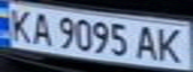0: (72, 16, 93, 53)
5: (109, 20, 133, 58)
9: (51, 13, 78, 51), (90, 18, 112, 55)
A: (27, 10, 57, 46), (133, 24, 160, 62)
K: (154, 25, 190, 64), (3, 6, 36, 44)
